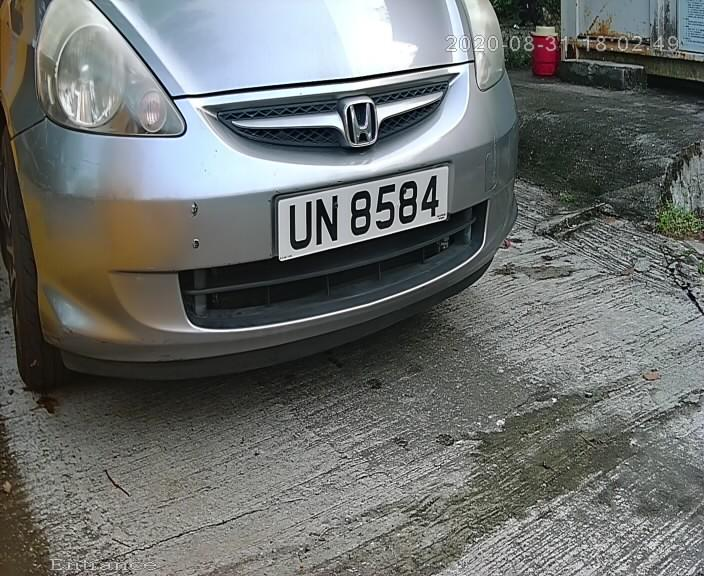License Plate: (271, 165, 453, 265)
